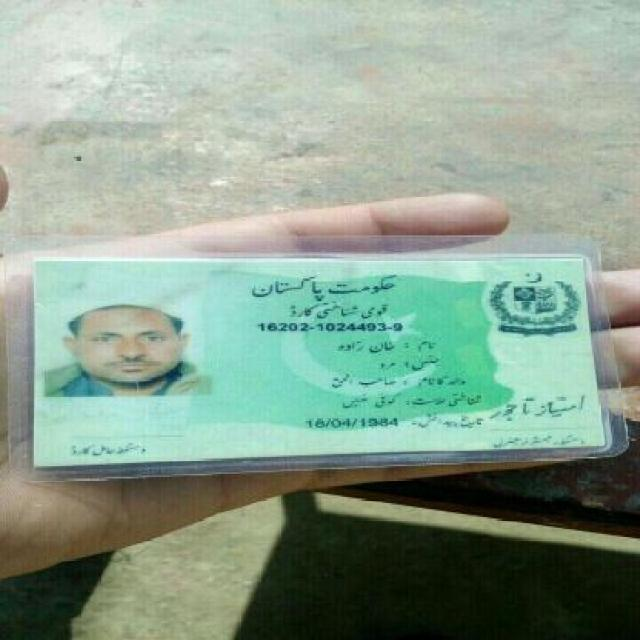Front: (18, 240, 630, 471)
